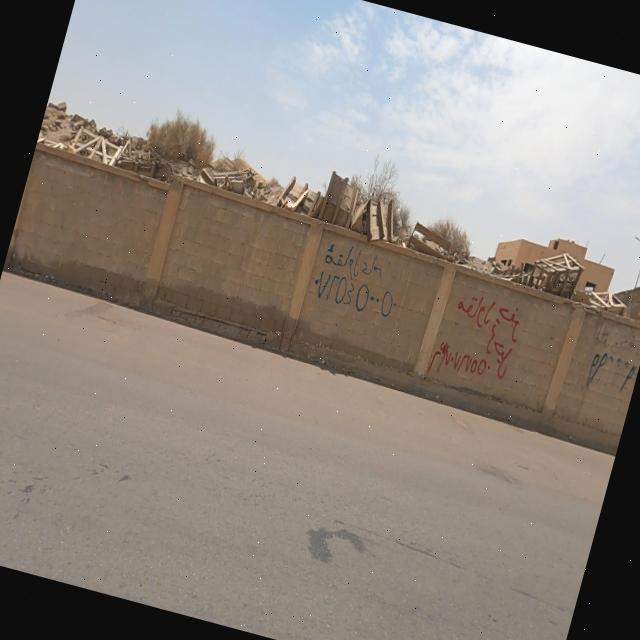Graffiti: (426, 287, 529, 394), (310, 240, 413, 323), (582, 326, 640, 399)
